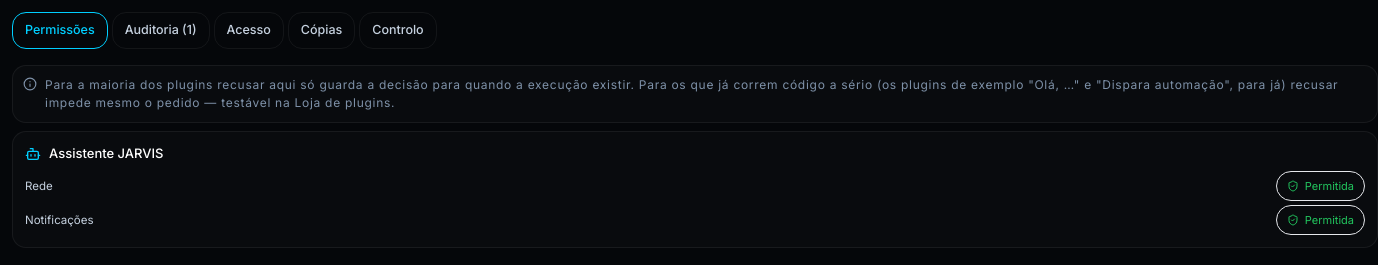
Scenario: auditoria › mostra o que o sistema fez
The image size is (1378, 265).
Click the tab "Auditoria (1)". click: point(161, 30)
box: [112,12,210,49]
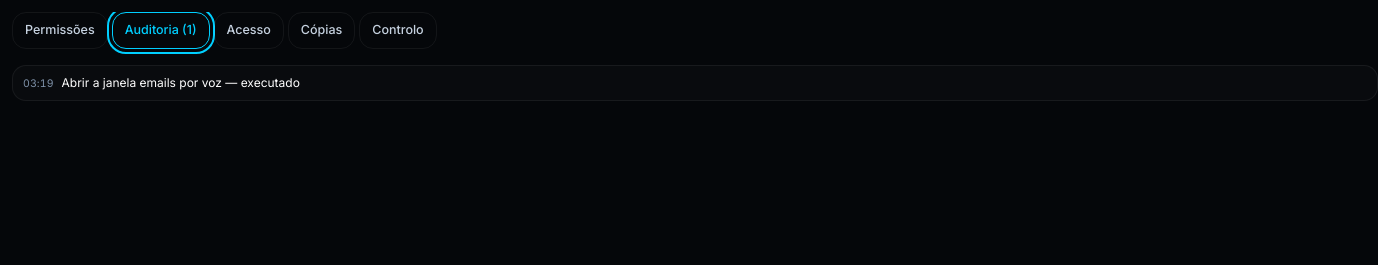
Check: the text "Abrir a janela emails por voz — executado" is shown, box [62,75,300,90]
